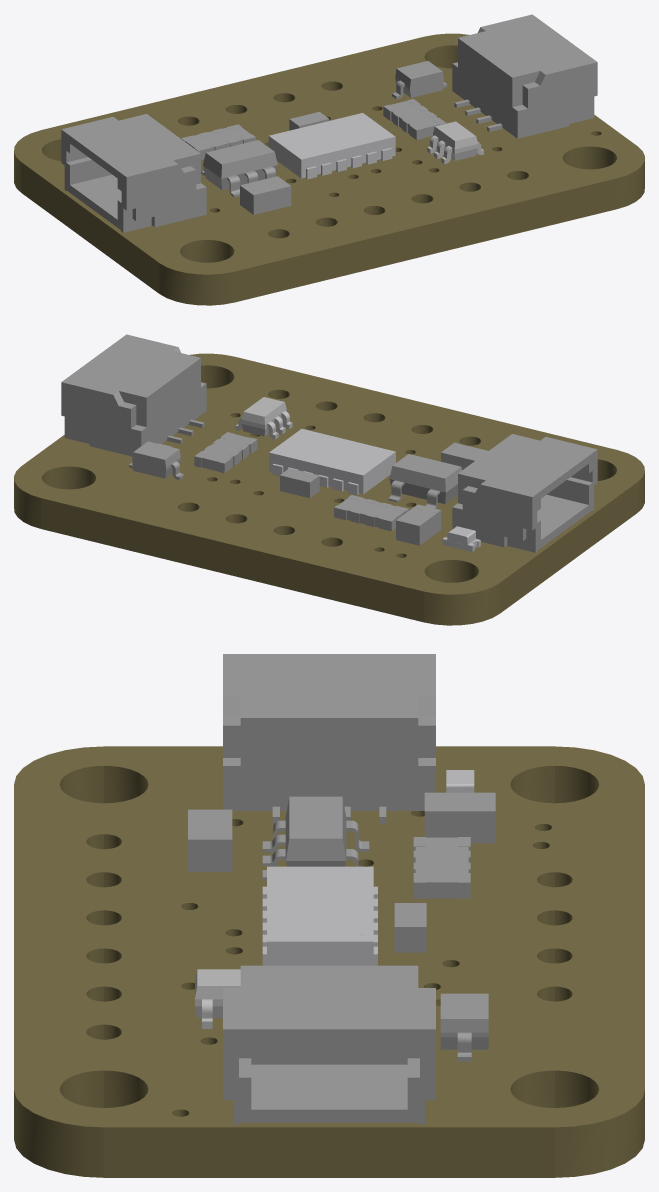
File: ada-4097.glb
3 renders of one model, top to bottom at view 1: azimuth 30°, elevation 25°; view 2: azimuth 150°, elevation 25°; view 3: azimuth 270°, elevation 25°, orthographic. The views are drawn at different scales.
Visible parts, largest first — view 1: 0.16666666666666666_0.16666666666666666_0.08333333333333333_, 0.3333333333333333_0.3333333333333333_0.3333333333333333_0, 0.5833333333333334_0.5833333333333334_0.5833333333333334_0.8, 0.5_0.5_0.5_0.85; view 2: 0.16666666666666666_0.16666666666666666_0.08333333333333333_, 0.3333333333333333_0.3333333333333333_0.3333333333333333_0, 0.5833333333333334_0.5833333333333334_0.5833333333333334_0.8, 0.5_0.5_0.5_0.85; view 3: 0.16666666666666666_0.16666666666666666_0.08333333333333333_, 0.3333333333333333_0.3333333333333333_0.3333333333333333_0, 0.5833333333333334_0.5833333333333334_0.5833333333333334_0.8, 0.5_0.5_0.5_0.85.
Boxes of the visible parts, bbox=[...] form: 0.16666666666666666_0.16666666666666666_0.08333333333333333_: bbox=[14, 33, 644, 305]; 0.3333333333333333_0.3333333333333333_0.3333333333333333_0: bbox=[61, 14, 597, 232]; 0.5833333333333334_0.5833333333333334_0.5833333333333334_0.8: bbox=[268, 113, 395, 179]; 0.5_0.5_0.5_0.85: bbox=[427, 121, 483, 163]; 0.16666666666666666_0.16666666666666666_0.08333333333333333_: bbox=[14, 353, 644, 625]; 0.3333333333333333_0.3333333333333333_0.3333333333333333_0: bbox=[61, 334, 597, 552]; 0.5833333333333334_0.5833333333333334_0.5833333333333334_0.8: bbox=[269, 428, 480, 551]; 0.5_0.5_0.5_0.85: bbox=[235, 397, 292, 439]; 0.16666666666666666_0.16666666666666666_0.08333333333333333_: bbox=[14, 746, 644, 1177]; 0.3333333333333333_0.3333333333333333_0.3333333333333333_0: bbox=[188, 654, 495, 1124]; 0.5833333333333334_0.5833333333333334_0.5833333333333334_0.8: bbox=[262, 770, 474, 965]; 0.5_0.5_0.5_0.85: bbox=[195, 969, 240, 1028].
Bounding box in the file's own units: 2.54 × 0.4529 × 1.78.
